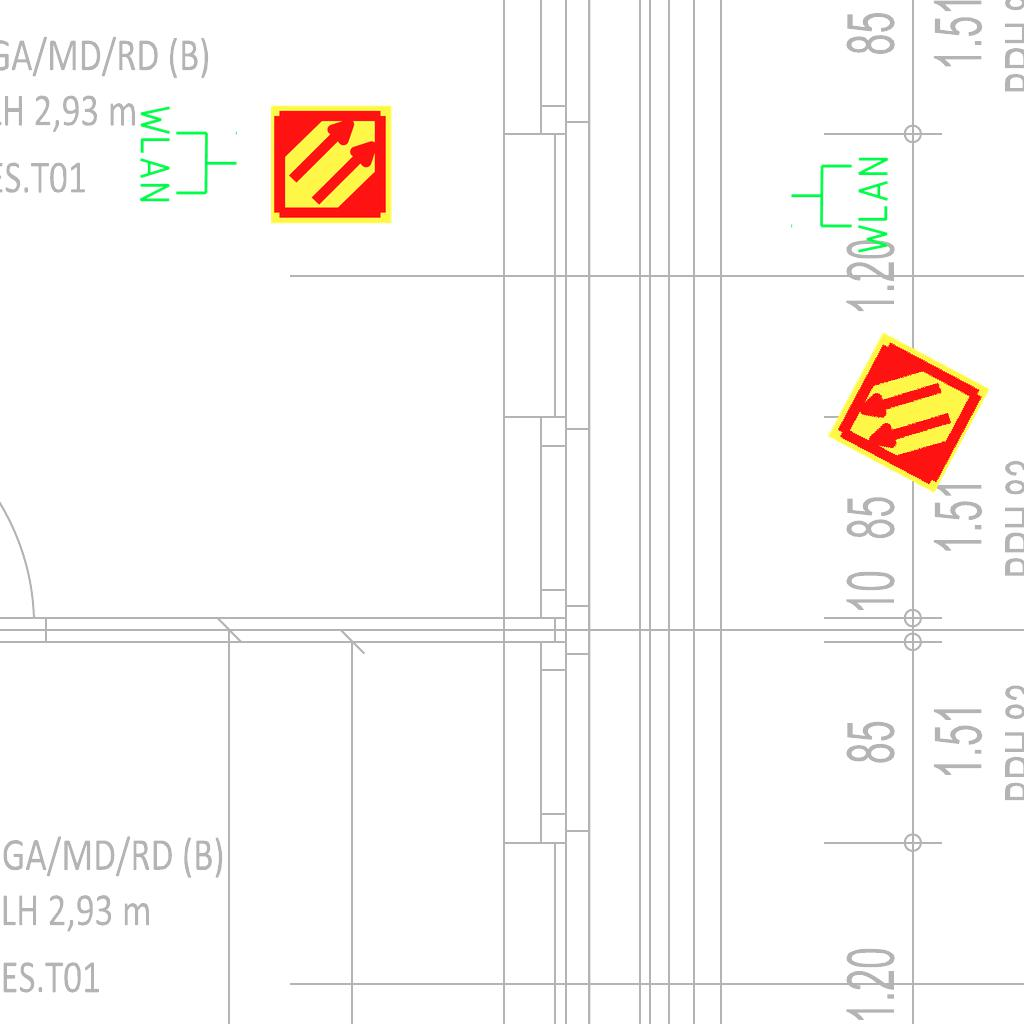ASR_Ansaugrauchmelder: (823, 327, 994, 498), (269, 102, 394, 227)
WLAN: (788, 153, 892, 258), (136, 101, 240, 206)
